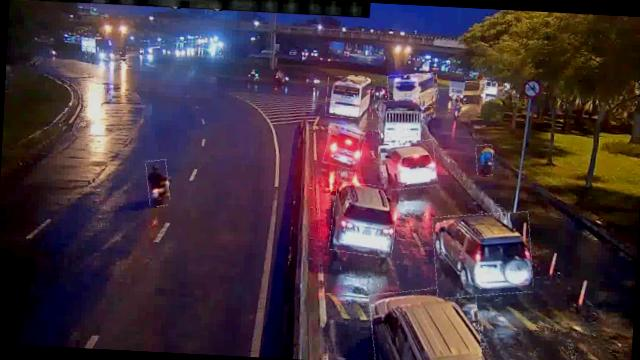Bike: (145, 159, 170, 206), (474, 144, 494, 176)
Bus: (326, 76, 376, 119), (386, 71, 439, 110)
Car: (430, 209, 534, 300), (366, 282, 482, 360), (329, 182, 399, 257), (379, 138, 438, 190), (324, 125, 364, 169)
Truck: (377, 98, 423, 144)
